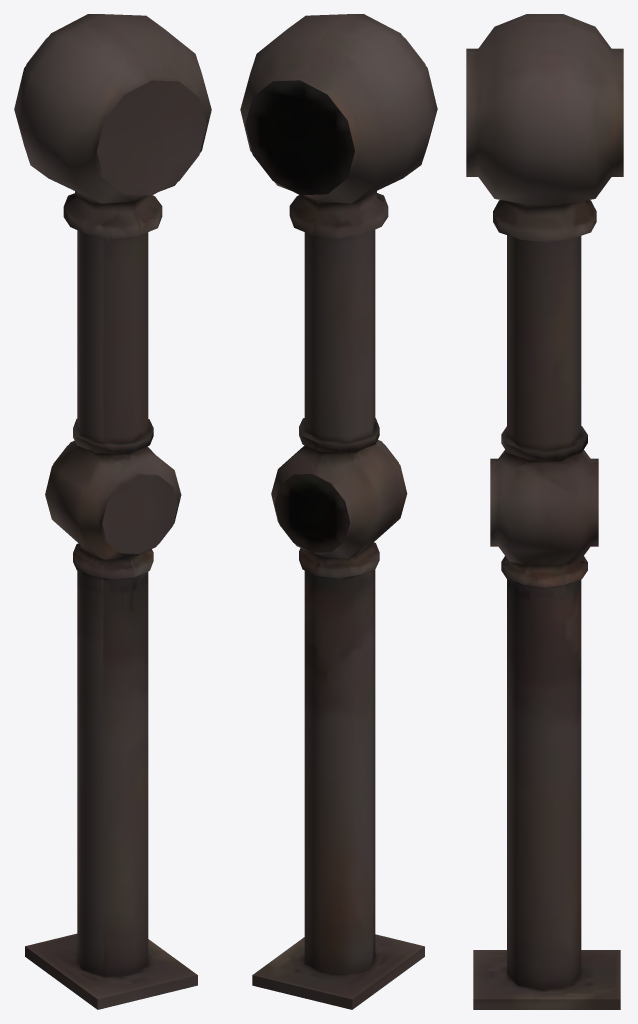
The picture shows the model from 3 angles, left to right: view 1: azimuth 30°, elevation 25°; view 2: azimuth 150°, elevation 25°; view 3: azimuth 270°, elevation 25°; orthographic projection.
Parts seen in each view (by area): view 1: body0_model0_lod0_mesh0; view 2: body0_model0_lod0_mesh0; view 3: body0_model0_lod0_mesh0.
Boxes of the visible parts, bbox=[...] form: body0_model0_lod0_mesh0: bbox=[14, 14, 211, 1009]; body0_model0_lod0_mesh0: bbox=[240, 14, 437, 1009]; body0_model0_lod0_mesh0: bbox=[466, 14, 623, 1009].
Bounding box in the file's own units: 6.78 × 36.32 × 5.38.
Materials: 1 (1 with a texture image).
